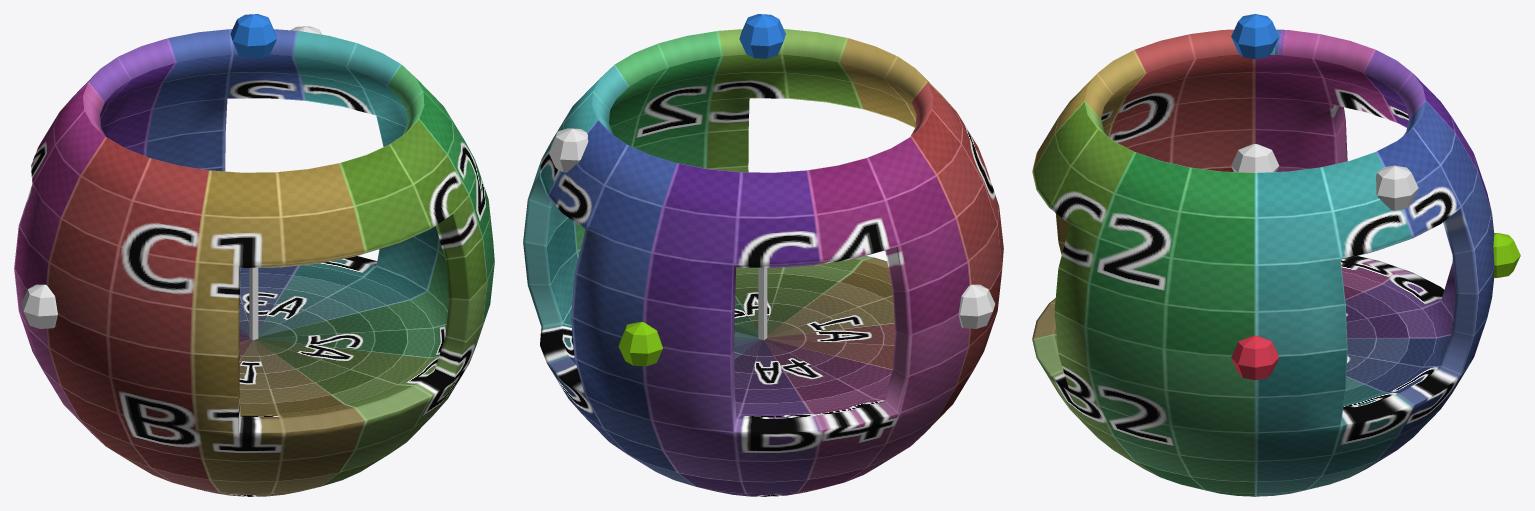
Rendered from oriented-sphere.glb.
3 renders of one model, left to right at view 1: azimuth 30°, elevation 25°; view 2: azimuth 150°, elevation 25°; view 3: azimuth 270°, elevation 25°, orthographic.
Parts seen in each view (by area): view 1: sphere-center-1m, sphZ, sphX-, parent; view 2: sphere-center-1m, sphZ, sphY, sphX-, sphMid, parent; view 3: sphere-center-1m, sphZ, sphX, sphMid, sphX-interior, sphY.
Boxes of the visible parts, x1,y1,x2,y2 form: sphere-center-1m: (14, 29, 494, 496); sphZ: (230, 14, 276, 58); sphX-: (21, 284, 57, 328); parent: (249, 267, 258, 340); sphere-center-1m: (523, 29, 1003, 496); sphZ: (739, 14, 785, 58); sphY: (618, 322, 662, 366); sphX-: (958, 284, 995, 328); sphMid: (549, 128, 588, 172); parent: (758, 267, 767, 340); sphere-center-1m: (1032, 29, 1494, 496); sphZ: (1231, 14, 1279, 59); sphX: (1231, 335, 1279, 380); sphMid: (1376, 165, 1418, 210); sphX-interior: (1231, 144, 1279, 172); sphY: (1493, 233, 1520, 277).
Size of the model in its own units: 7.33 by 7.33 by 6.75.
5 materials, 1 textured.
